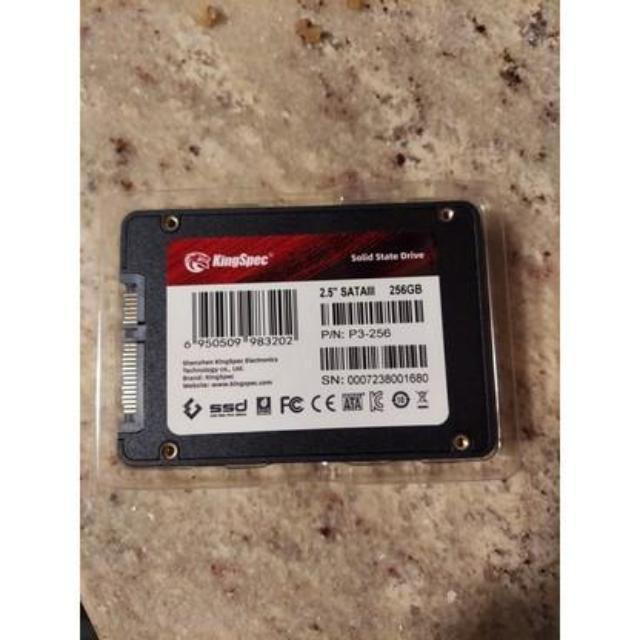DISK: (113, 195, 504, 470)
